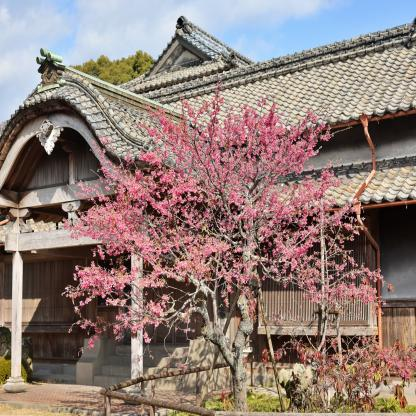KanhiSakura: (62, 74, 395, 375)
